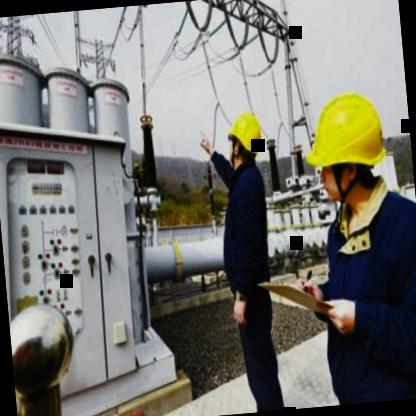helmet: (302, 79, 396, 218), (223, 104, 267, 170)
